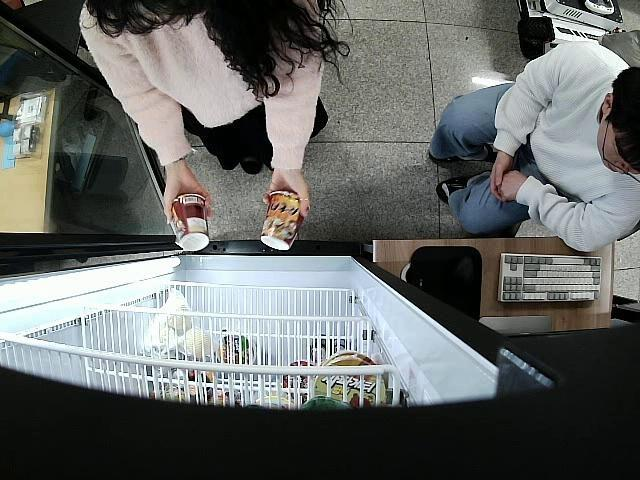06_nuguri_S: (258, 191, 304, 254), (168, 190, 210, 251)
